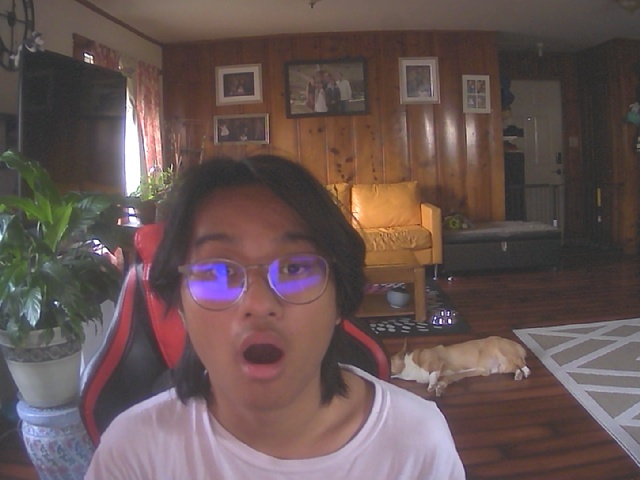fear: (170, 177, 344, 416)
